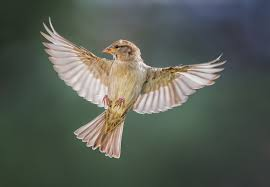hsparrow: (38, 12, 228, 161)
